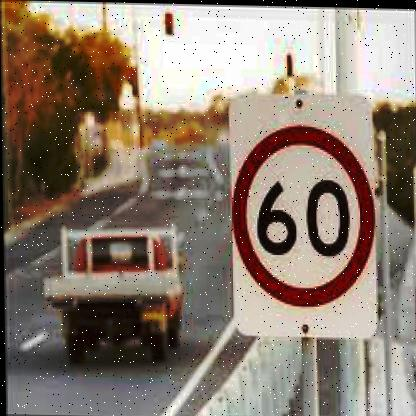Speed Limit -60-: (229, 122, 378, 309)
